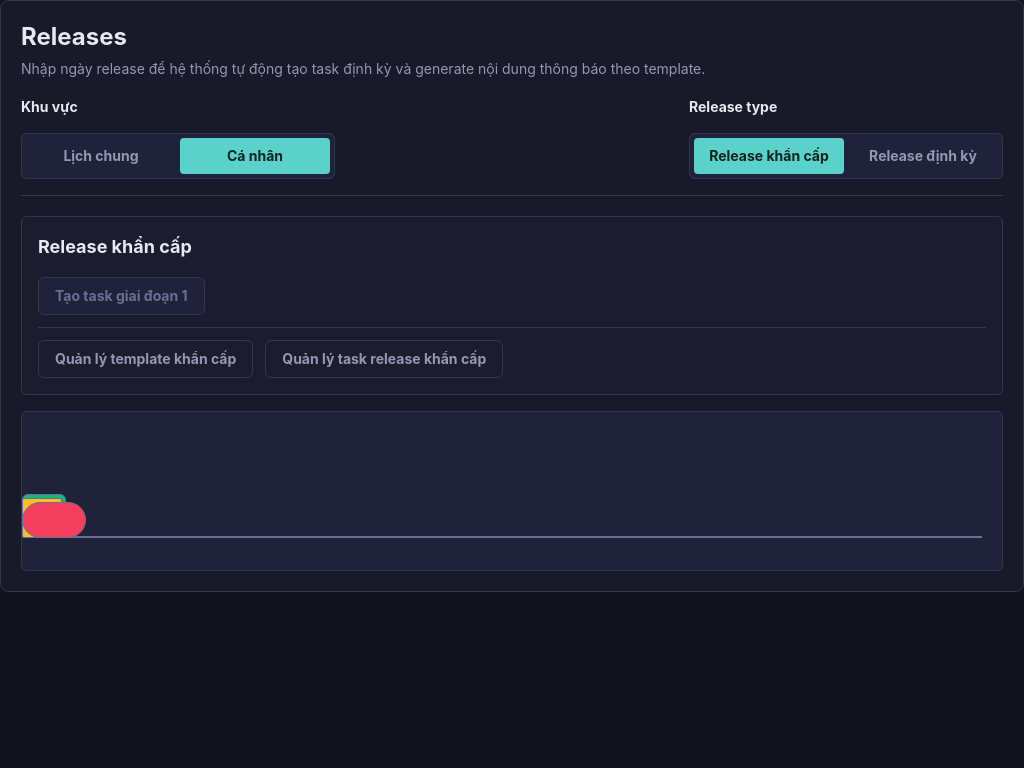
Release định kỳ — tạo task báo lỗi khi BE từ chối › BE trả 400 (task release không hợp lệ) -> hiện thông báo lỗi, không im lặng
This screenshot has width=1024, height=768.
Click the button "Release định kỳ" at (923, 156), box [848, 138, 998, 174]
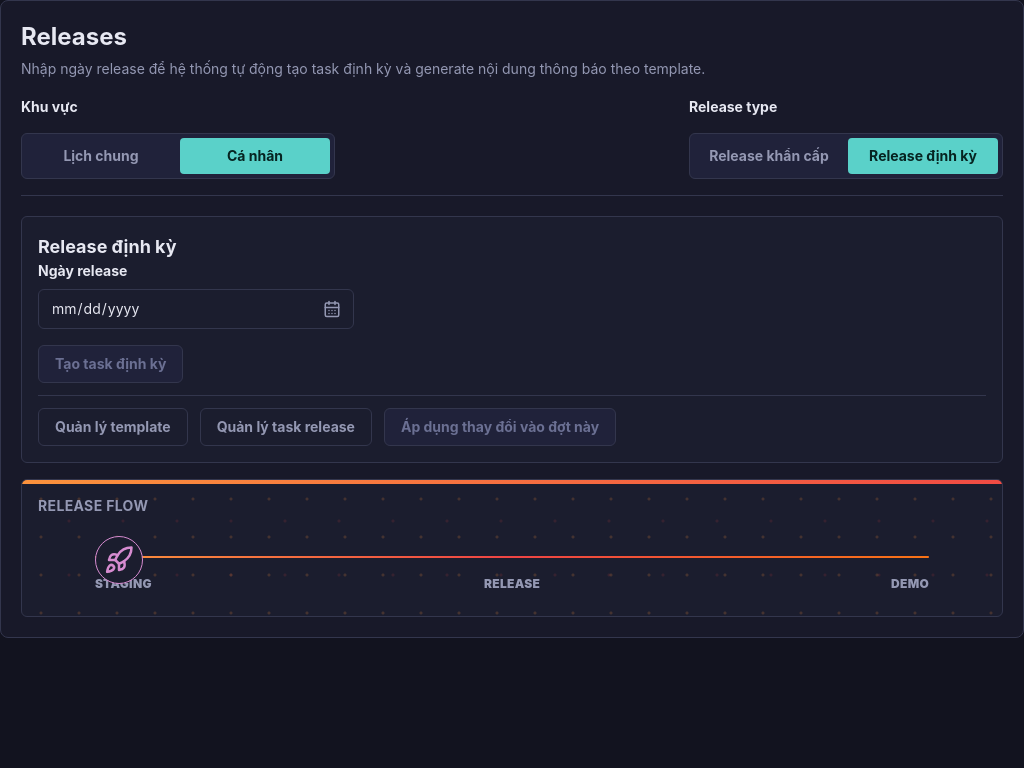
Type "2026-09-18" into the date field labelled "Ngày release" at (196, 309), box [38, 289, 354, 329]
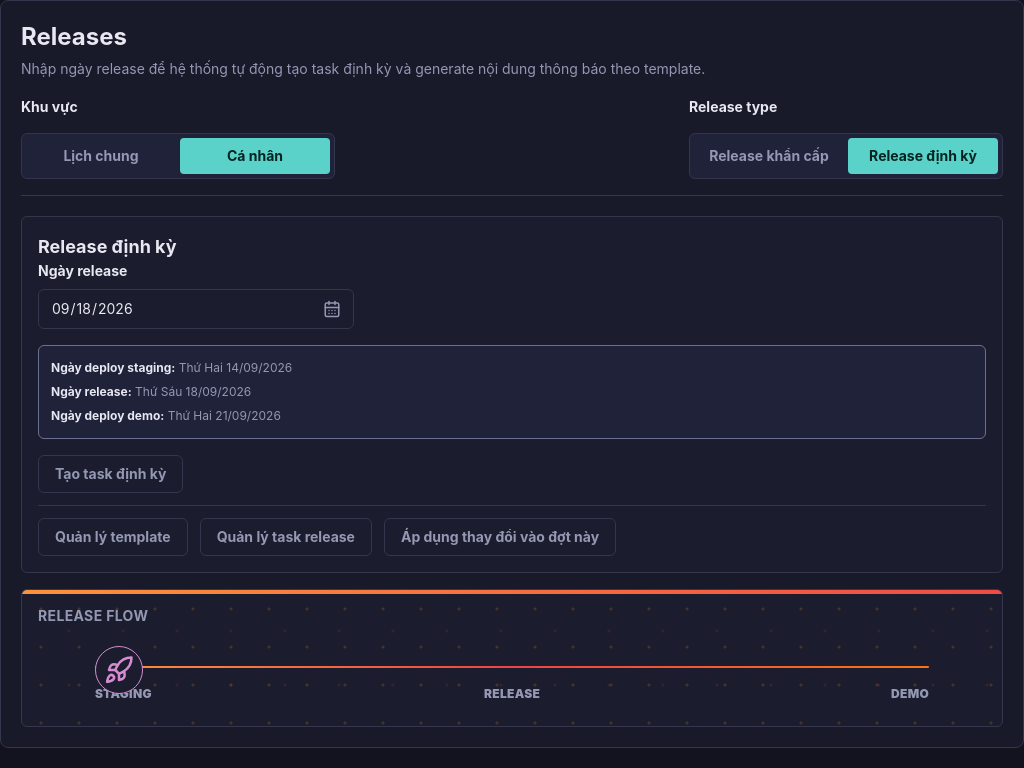
Click the button "Tạo task định kỳ" at (111, 474), box [38, 455, 184, 493]
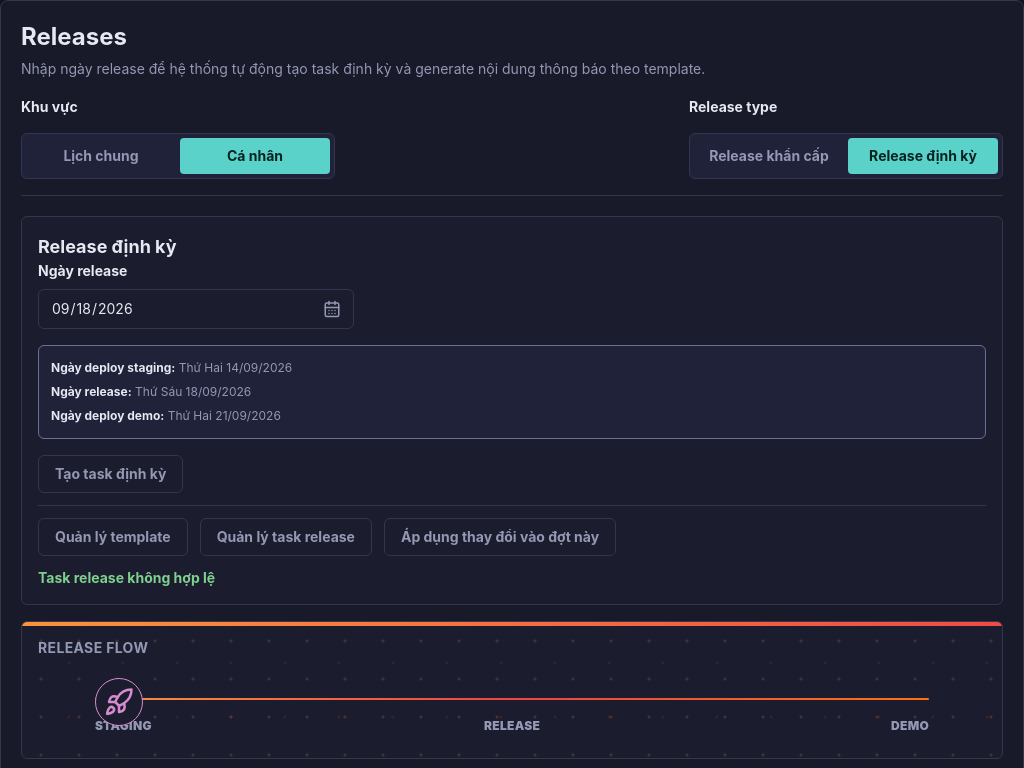
Expected: the text "Task release không hợp lệ" is shown, [38, 569, 215, 586]
